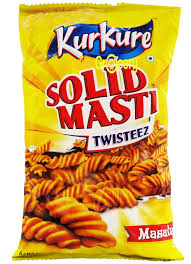kurkure: (43, 17, 157, 64)
plastic: (17, 2, 183, 261)
wrapper: (13, 1, 186, 264)
